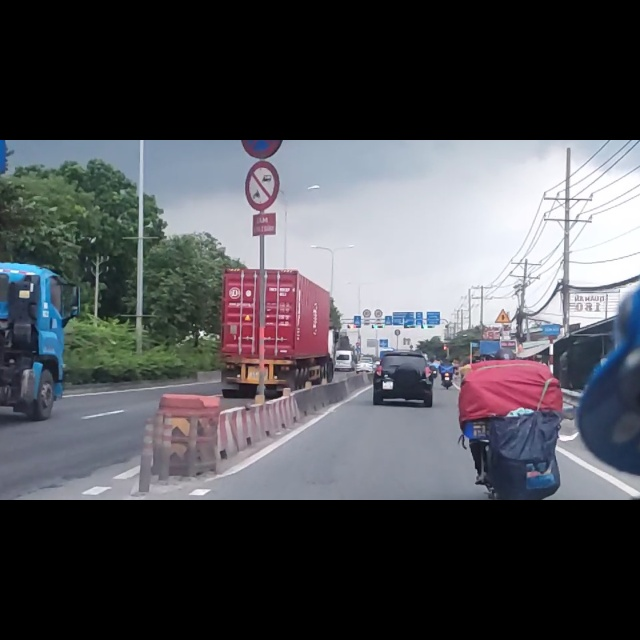bien_chi_dan: (244, 38, 281, 123), (495, 301, 511, 326)
